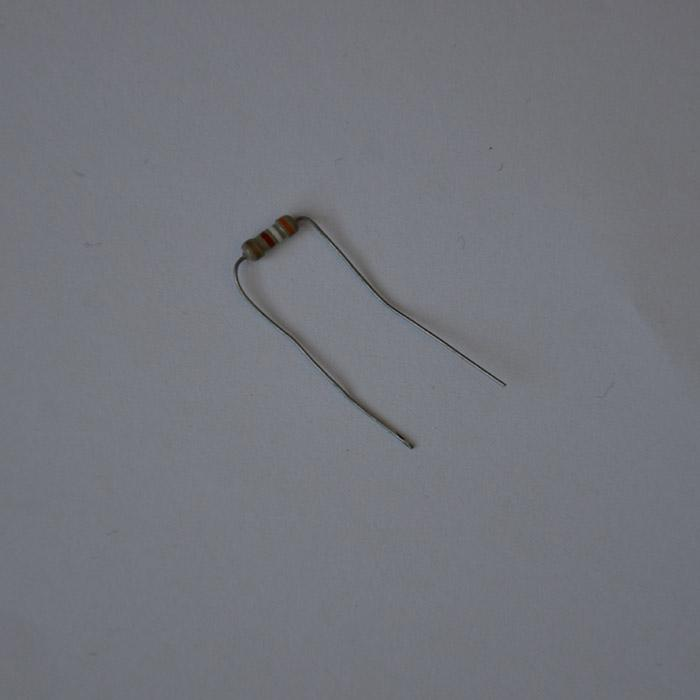resistor: (240, 214, 299, 262)
